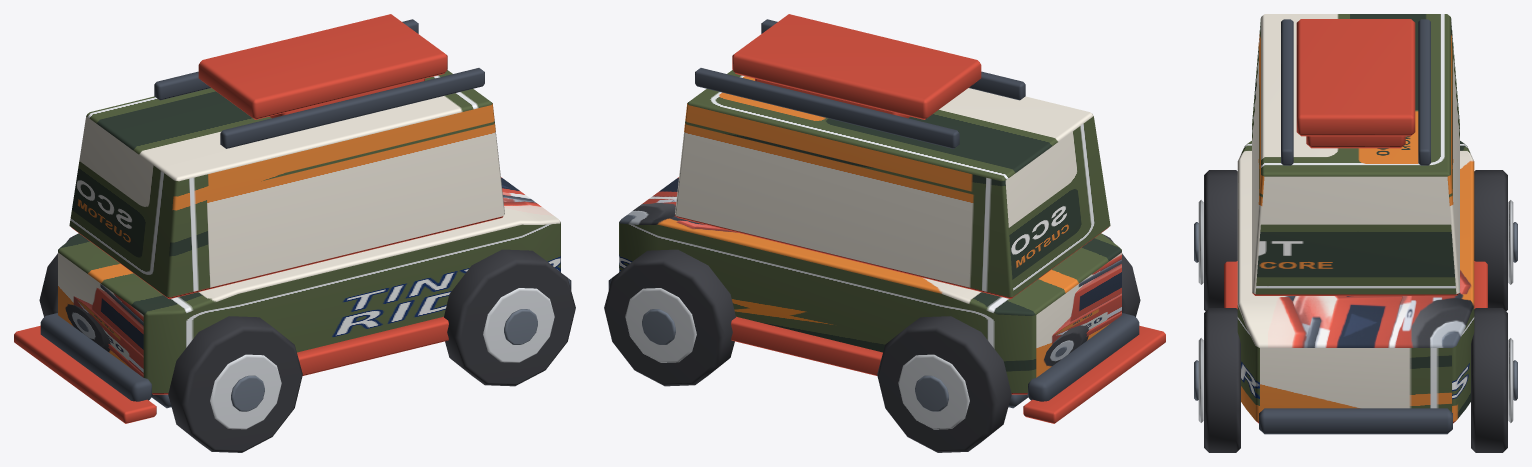
The picture shows the model from 3 angles, left to right: view 1: azimuth 30°, elevation 25°; view 2: azimuth 150°, elevation 25°; view 3: azimuth 270°, elevation 25°; orthographic projection. The views are drawn at different scales.
Parts seen in each view (by area): view 1: DP-05_cabin, DP-05_connected_shell, utility load, Tire, Tire.002, utility rail, custom side guard, custom chin, front bumper, Rim, Rim.002, utility rail.001 (+3 smaller); view 2: DP-05_cabin, DP-05_connected_shell, utility load, Tire.001, Tire.003, utility rail.001, custom side guard.001, custom chin, front bumper, Rim.001, Rim.003, utility rail (+3 smaller); view 3: DP-05_cabin, DP-05_connected_shell, utility load, Tire.002, Tire.003, rear bumper, Tire, Tire.001, utility rail, utility rail.001, custom equipment, custom side guard (+5 smaller).
Part boxes in pixels (<box>): DP-05_cabin: <box>69,70,504,298</box>; DP-05_connected_shell: <box>58,177,560,394</box>; utility load: <box>198,14,447,119</box>; Tire: <box>168,316,302,452</box>; Tire.002: <box>444,249,575,386</box>; utility rail: <box>220,68,484,148</box>; custom side guard: <box>297,316,448,375</box>; custom chin: <box>14,325,156,423</box>; front bumper: <box>40,313,152,401</box>; Rim: <box>210,354,281,429</box>; Rim.002: <box>483,288,554,362</box>; utility rail.001: <box>154,19,418,100</box>; DP-05_cabin: <box>675,70,1110,298</box>; DP-05_connected_shell: <box>619,177,1121,394</box>; utility load: <box>732,14,981,119</box>; Tire.001: <box>877,316,1011,452</box>; Tire.003: <box>604,249,735,386</box>; utility rail.001: <box>695,68,959,148</box>; custom side guard.001: <box>731,316,882,375</box>; custom chin: <box>1023,325,1165,423</box>; front bumper: <box>1027,313,1139,401</box>; Rim.001: <box>898,354,969,429</box>; Rim.003: <box>625,288,696,362</box>; utility rail: <box>761,19,1025,100</box>; DP-05_cabin: <box>1252,14,1459,295</box>; DP-05_connected_shell: <box>1237,141,1474,423</box>; utility load: <box>1296,19,1415,136</box>; Tire.002: <box>1204,308,1240,452</box>; Tire.003: <box>1471,308,1507,452</box>; rear bumper: <box>1259,408,1452,434</box>; Tire: <box>1204,170,1237,311</box>; Tire.001: <box>1474,170,1507,311</box>; utility rail: <box>1281,19,1293,165</box>; utility rail.001: <box>1418,19,1430,165</box>; custom equipment: <box>1306,136,1405,148</box>; custom side guard: <box>1224,261,1237,308</box>.
Bounding box in the file's own units: 384 × 247 × 227.
